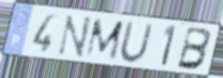1: (160, 24, 177, 69)
4: (30, 12, 58, 55)
B: (175, 25, 213, 72)
M: (83, 18, 126, 62)
N: (55, 14, 94, 60)
U: (118, 20, 155, 64)
